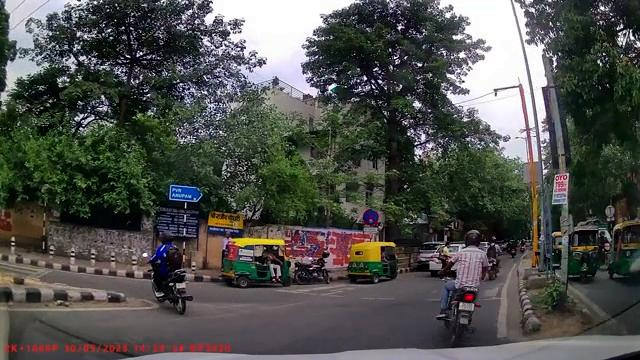motorcycle_with_helmet: (434, 229, 489, 346), (149, 230, 193, 315)
